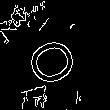O_NE: (19, 26, 84, 88)
